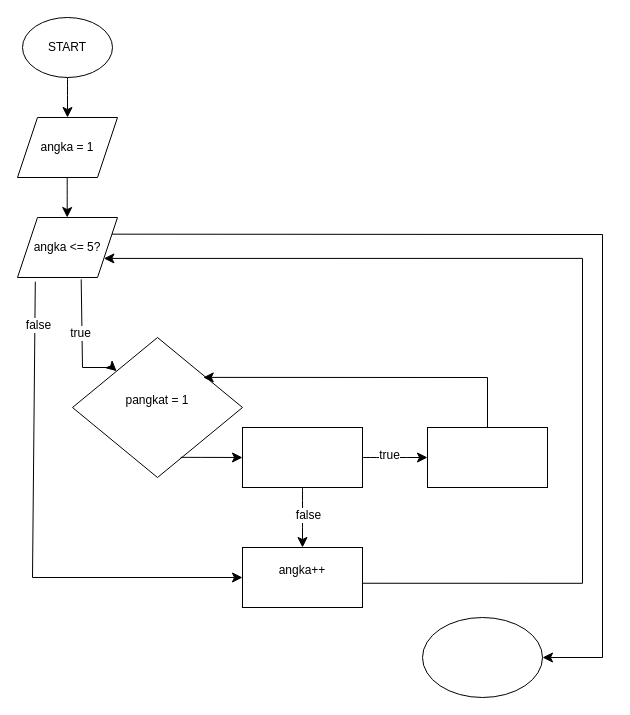
The diagram is 630 pixels wide and 715 high, and some of its shapes have lost their labels. Each missing label, with the centre of its shape:
"END" belongs at (x=482, y=657).
"hitung&tampilkan pangkat++" belongs at (x=487, y=457).
"pangkat <=3?" belongs at (x=302, y=457).
